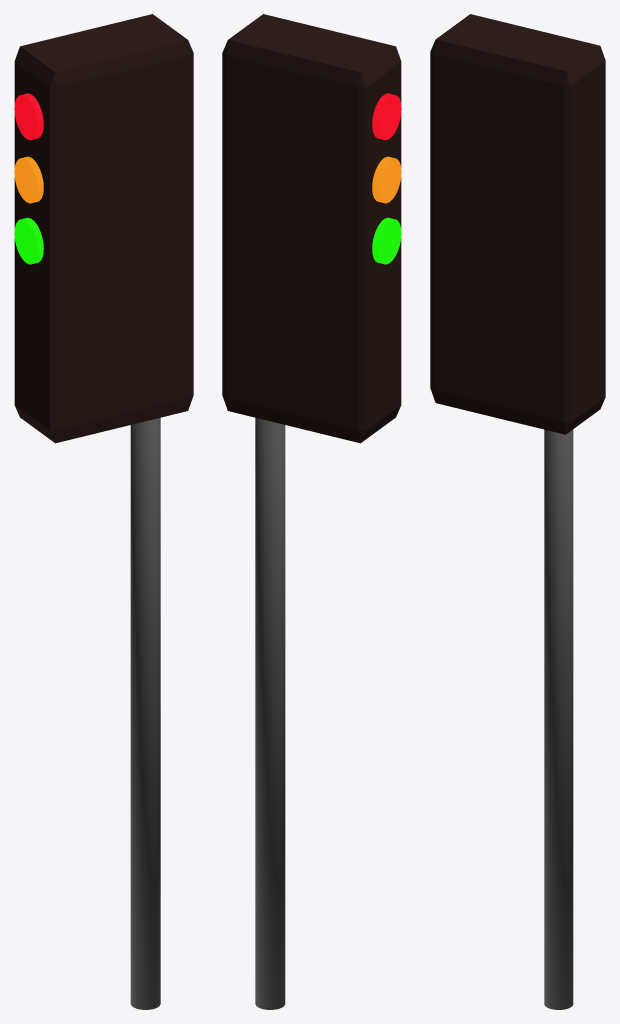
File: TrafficLight.glb
3 renders of one model, left to right at view 1: azimuth 30°, elevation 25°; view 2: azimuth 150°, elevation 25°; view 3: azimuth 330°, elevation 25°, orthographic. The views are drawn at different scales.
Parts seen in each view (by area): view 1: Cube.001; view 2: Cube.001; view 3: Cube.001.
Part boxes in pixels (x1=…): Cube.001: x1=14, y1=14, x2=193, y2=1009; Cube.001: x1=222, y1=14, x2=401, y2=1009; Cube.001: x1=430, y1=14, x2=605, y2=1009.
Size of the model in its own units: 4.51 by 27.93 by 2.
